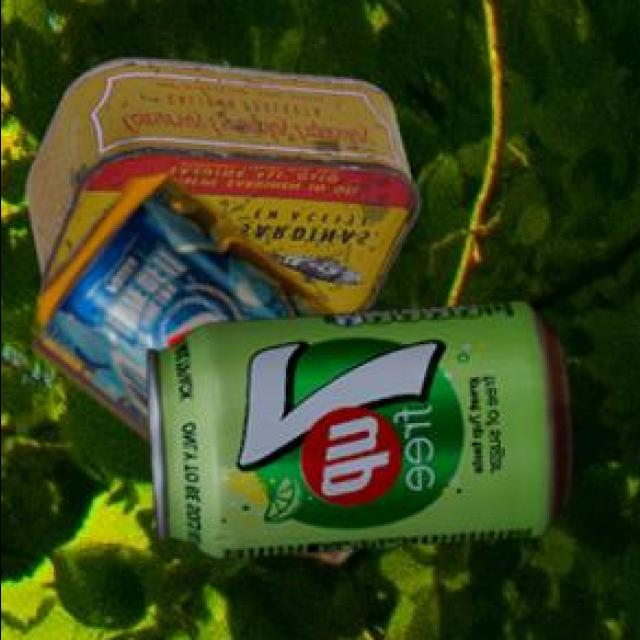logam: (144, 299, 569, 556), (23, 56, 415, 312), (30, 172, 338, 428)
